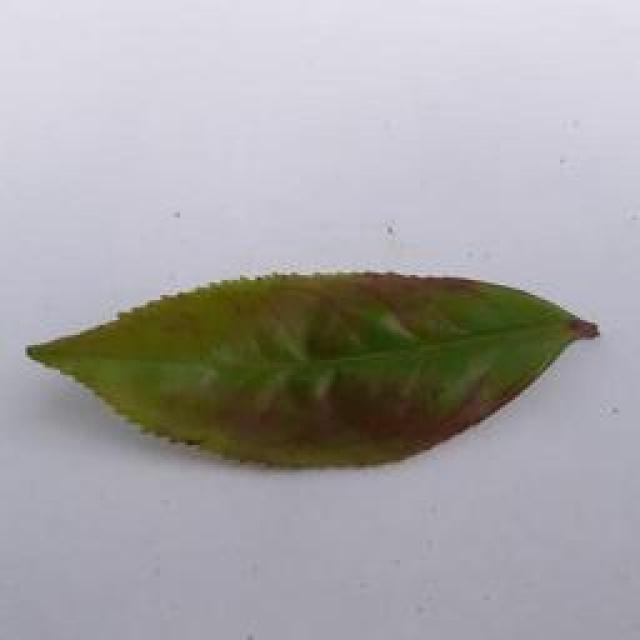Red Leaf Spot: (25, 249, 622, 484)
